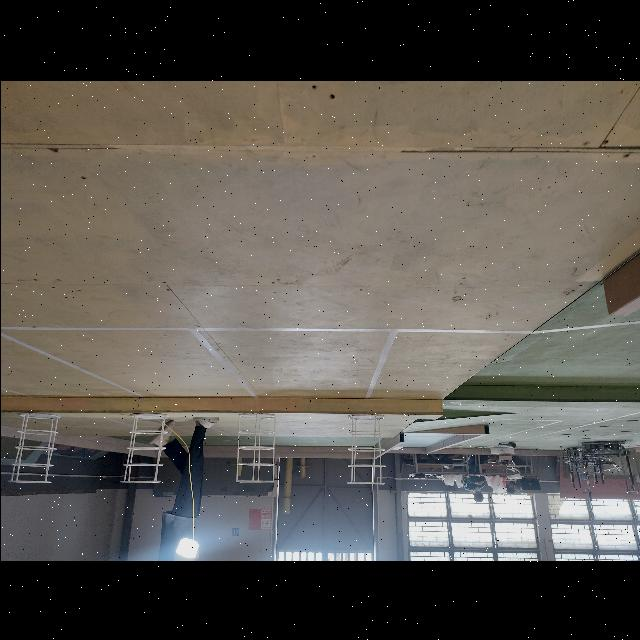S: (8, 410, 62, 486), (118, 412, 170, 486), (231, 410, 279, 488), (346, 406, 390, 486)
